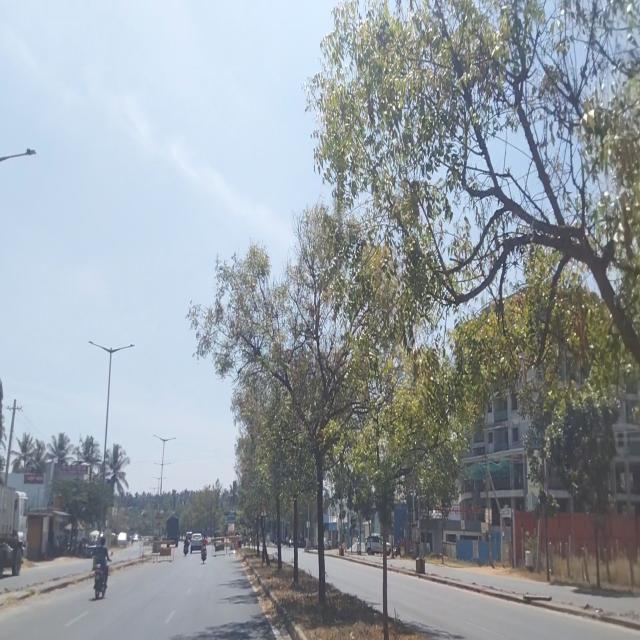bien_cam: (260, 504, 267, 517)
